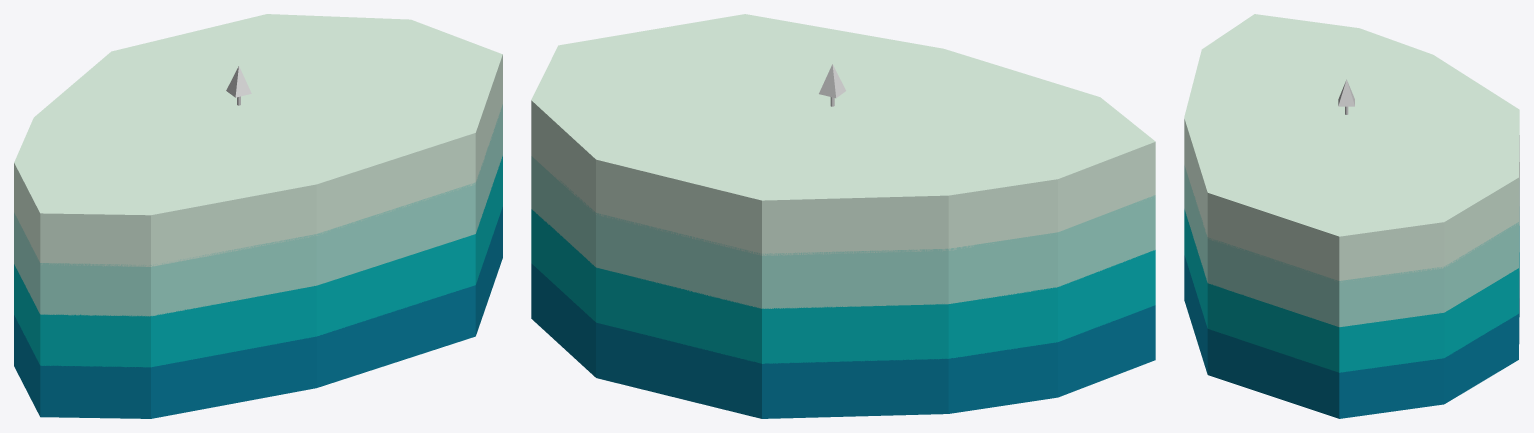
File: ProcessOcean.dae
The picture shows the model from 3 angles, left to right: view 1: azimuth 30°, elevation 25°; view 2: azimuth 150°, elevation 25°; view 3: azimuth 270°, elevation 25°; orthographic projection. The views are drawn at different scales.
Visible parts, largest first — view 1: Ocean., Cylinder.1; view 2: Ocean.; view 3: Ocean., Cylinder.1.
Part boxes in pixels (left/top/right/bottom): Ocean.: left=14, top=14, right=502, bottom=418; Cylinder.1: left=226, top=66, right=251, bottom=105; Ocean.: left=531, top=14, right=1155, bottom=418; Ocean.: left=1184, top=14, right=1519, bottom=418; Cylinder.1: left=1338, top=79, right=1354, bottom=114.
Size of the model in its own units: 1176 by 557 by 749.
